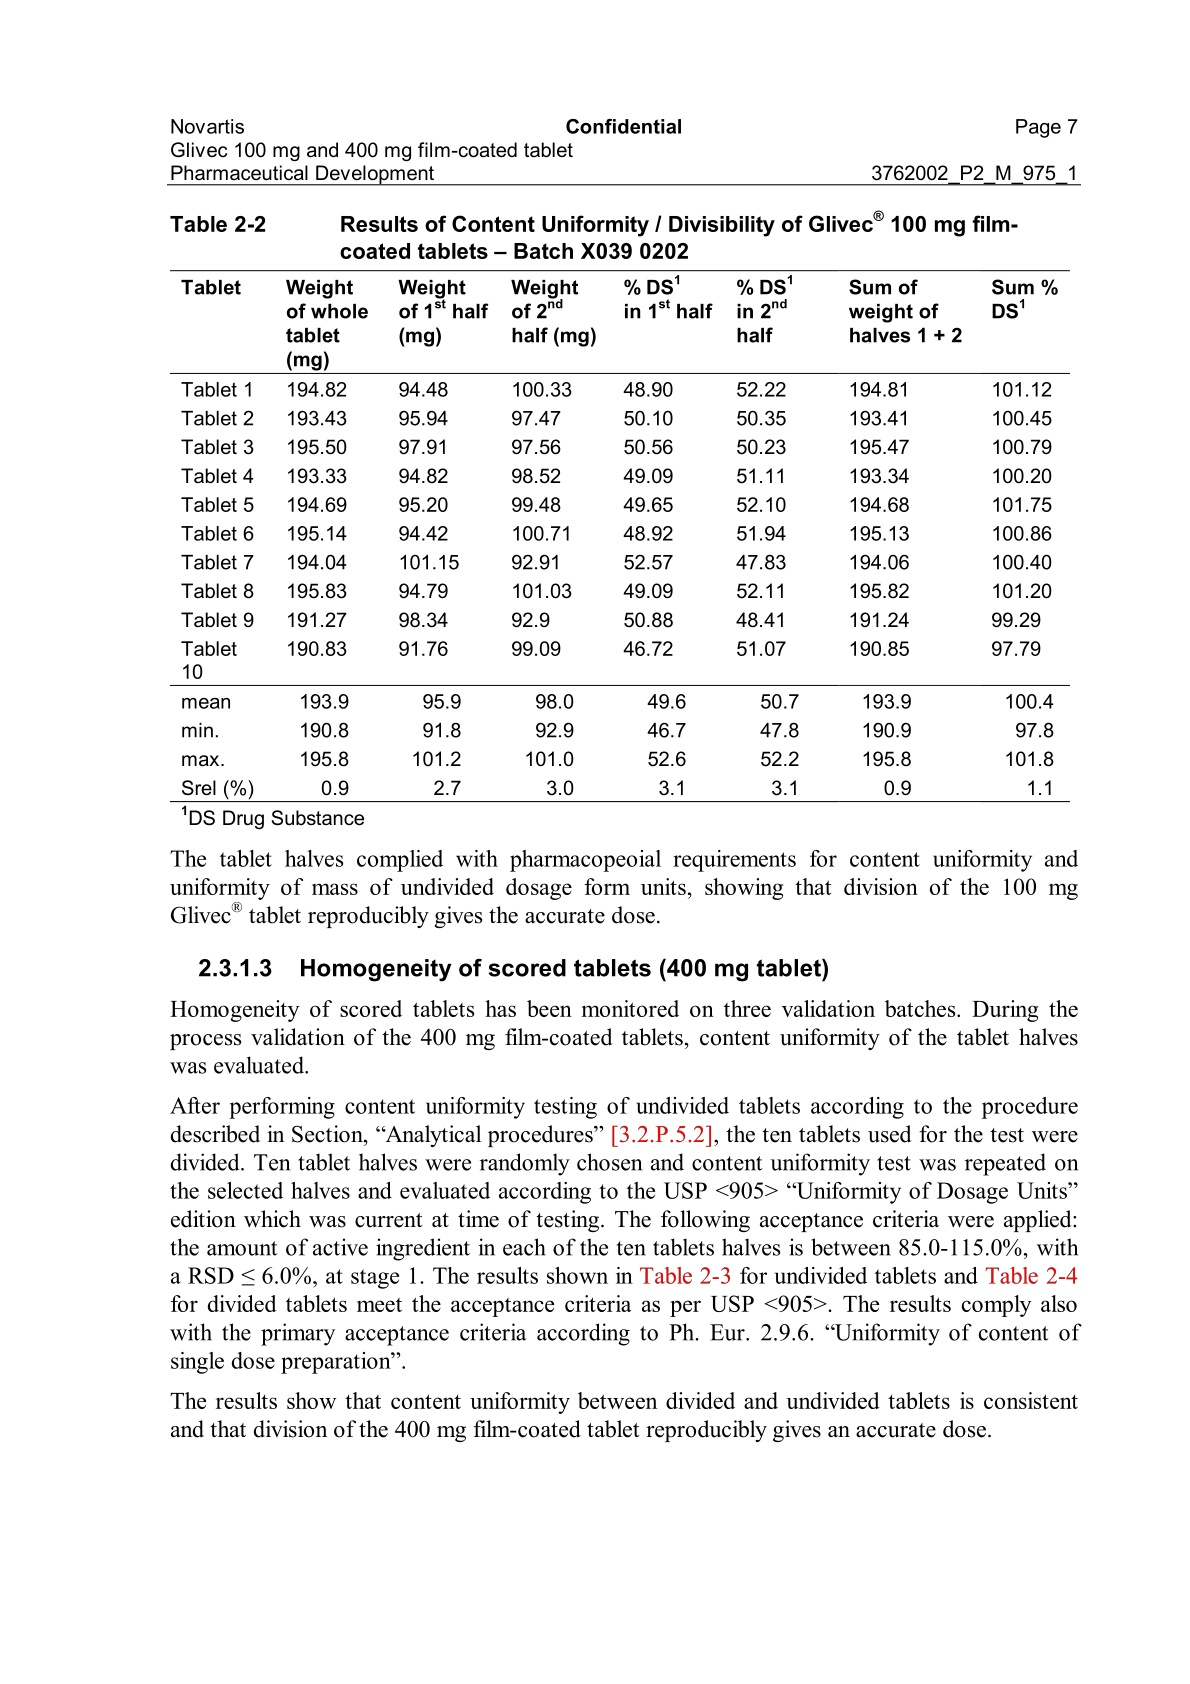partial_lined: (169, 269, 1073, 803)
